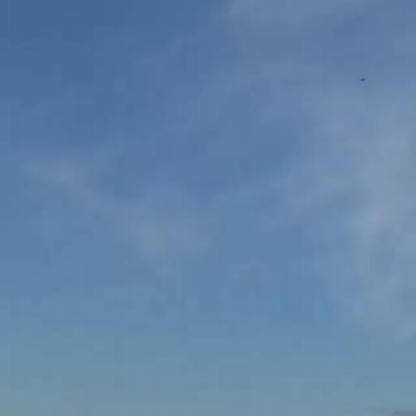CIV_Plane: (356, 70, 370, 87)
